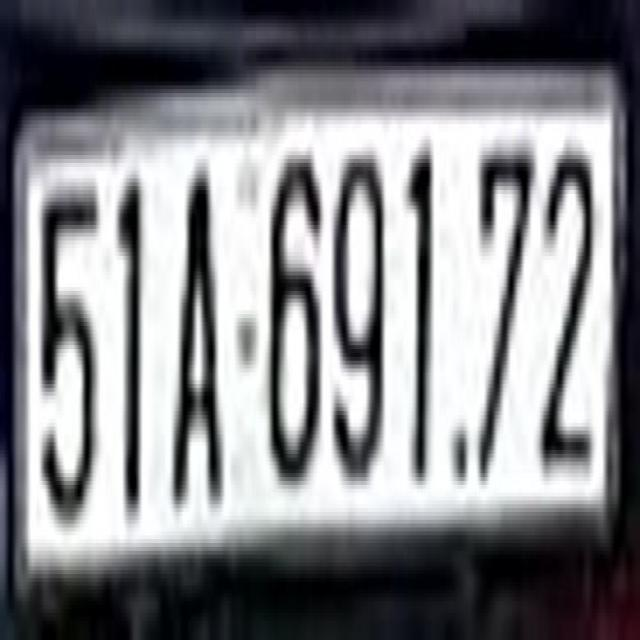1: (112, 163, 143, 512), (403, 147, 433, 489)
2: (543, 140, 594, 473)
5: (41, 178, 97, 520)
6: (268, 147, 318, 489)
7: (476, 147, 534, 477)
9: (333, 159, 384, 477)
A: (170, 155, 227, 508)
